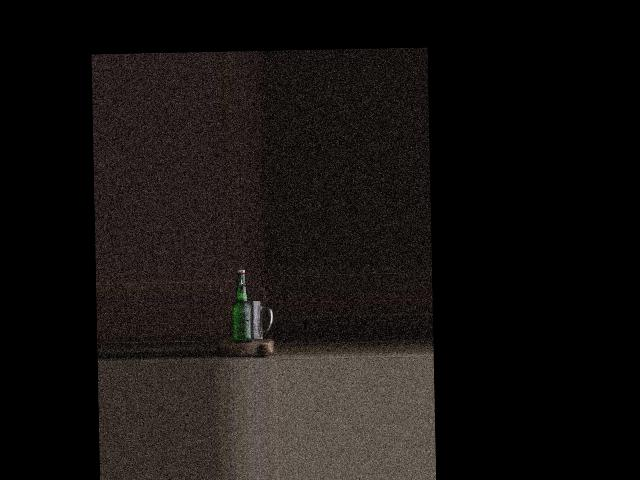beer: (231, 269, 252, 342)
